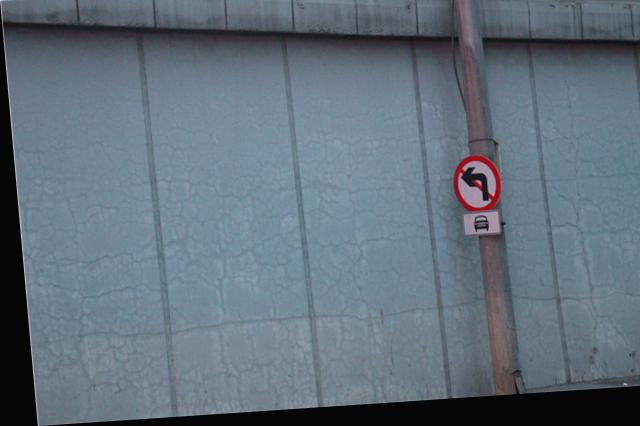not_turn_left: (446, 161, 496, 221)
